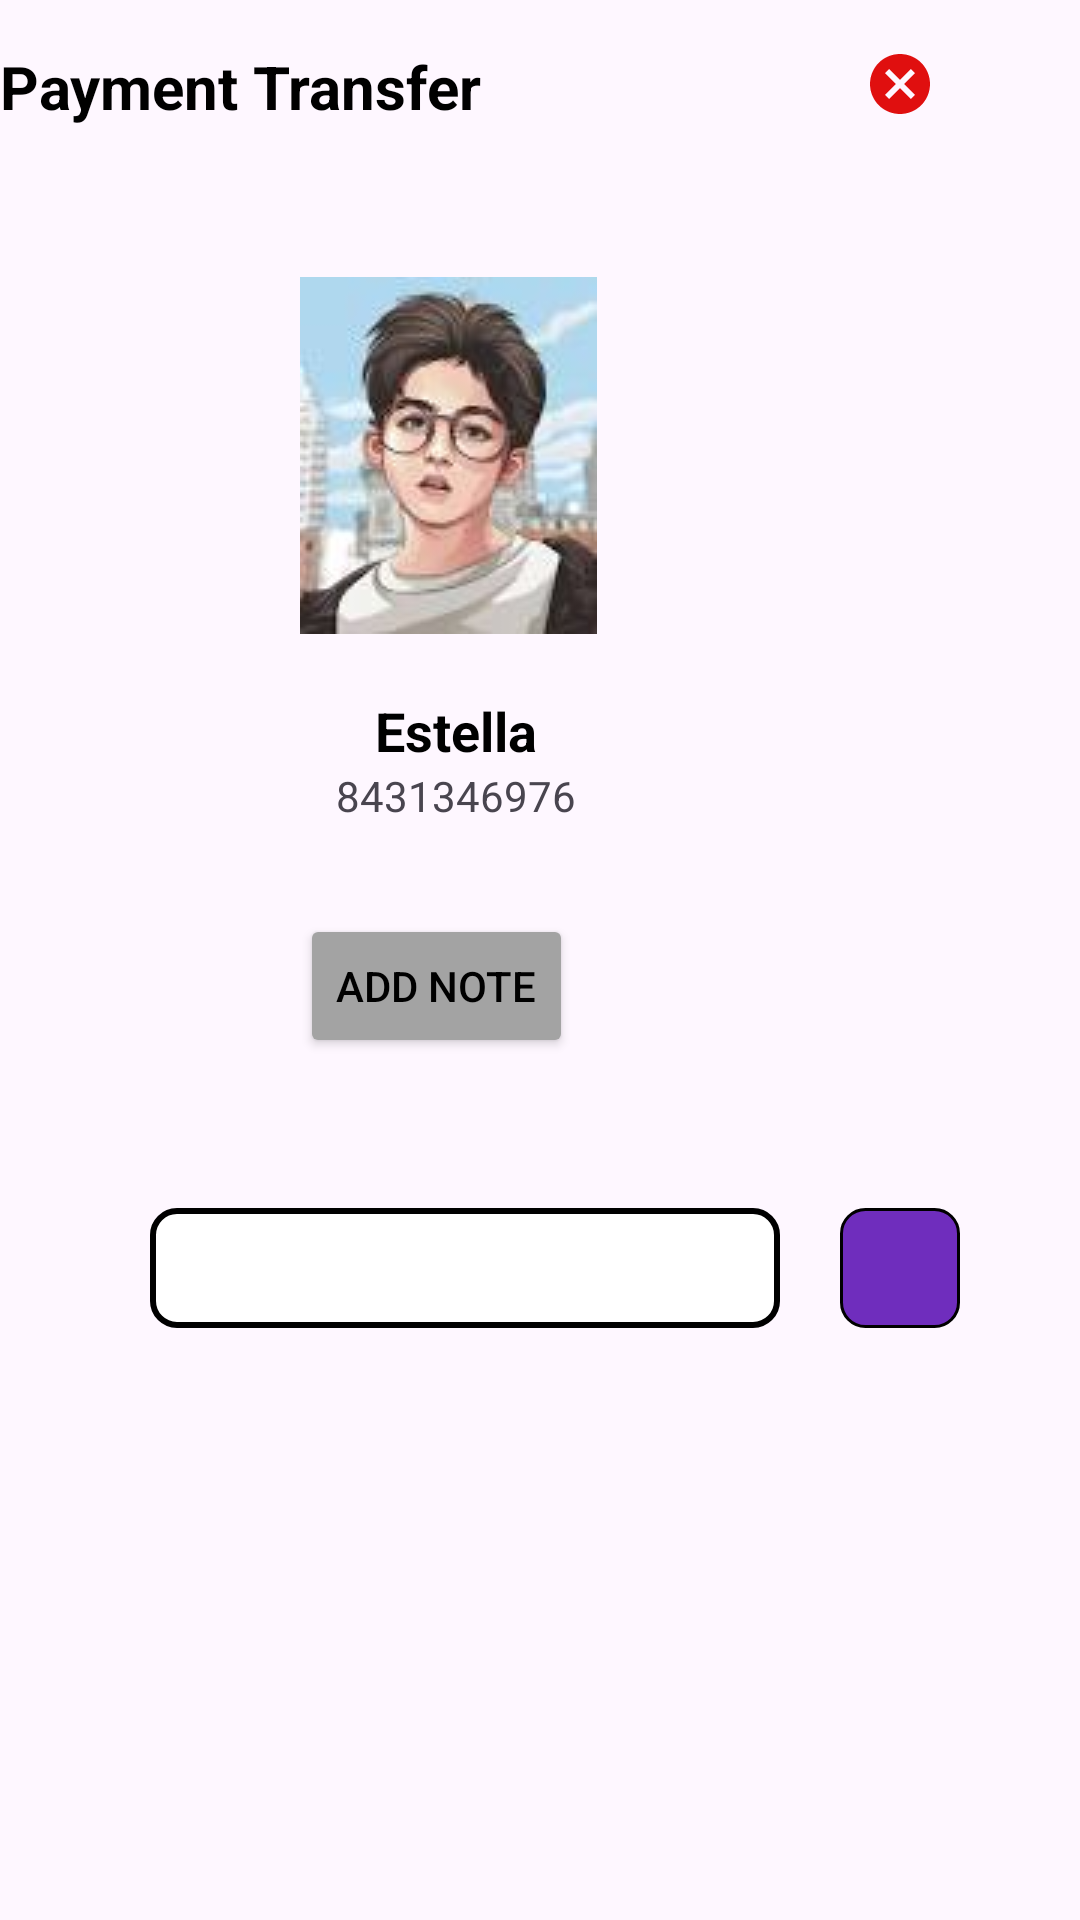

Where to tap for icons on this 1080px×1920px app screen, as (x,y):
cancel: (900,84)
picboy: (448,455)
